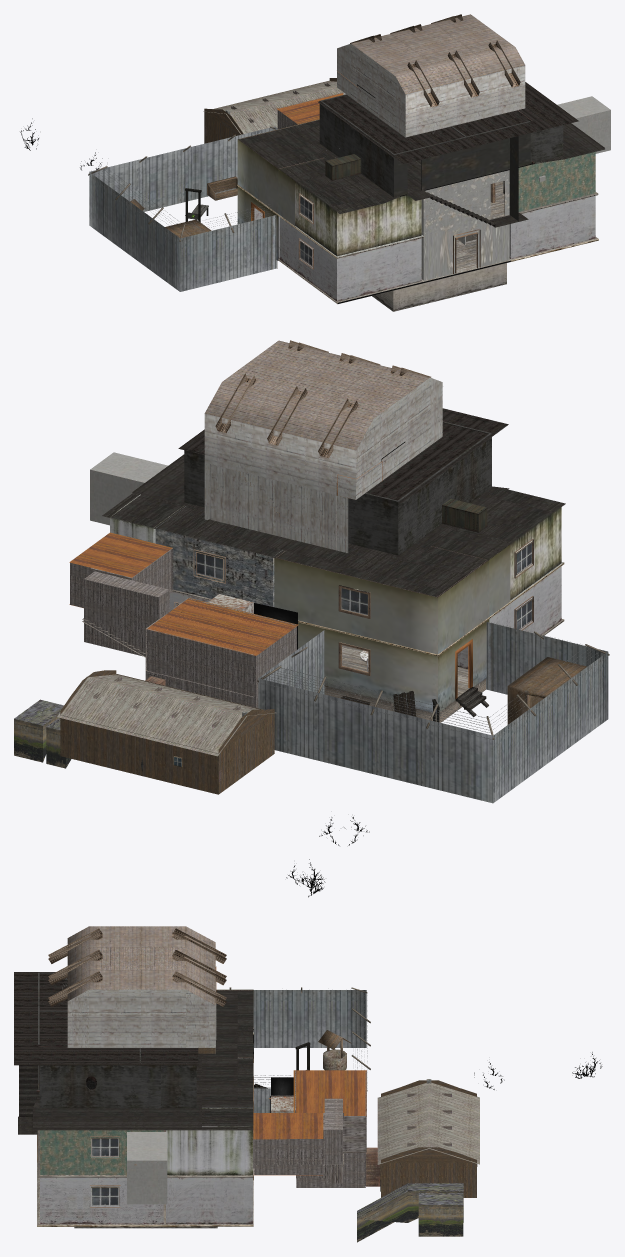
Rendered from granny1_map.glb.
3 views of the same model, one above another, from view 1: azimuth 30°, elevation 25°; view 2: azimuth 150°, elevation 25°; view 3: azimuth 270°, elevation 25° (orthographic). The views are drawn at different scales.
Visible parts, largest first — view 1: Klockdel_15_emissive.jpg, HouseUpdateVind1_1.001_diffuse_scale0.jpg, Klockdel_10_diffuse.jpg, Klockdel_18_diffuse.jpg, Klockdel_16_diffuse.jpg, HouseFloorBaked2Test3.001_diffuse.jpg, Klockdel_52_diffuse.jpg, Klockdel_12_diffuse.jpg, Klockdel_45_diffuse_scale5.jpg; view 2: Klockdel_10_diffuse.jpg, Klockdel_18_diffuse.jpg, HouseUpdateVind1_1.001_diffuse_scale0.jpg, Klockdel_12_diffuse.jpg, Klockdel_16_diffuse.jpg, Klockdel_15_emissive.jpg, Klockdel_52_diffuse.jpg, Klockdel_23_diffuse.jpg, BarbedWire_diffuse.png, HouseFloorBaked2Test3.001_diffuse.jpg, Klockdel_41_diffuse_scale5.jpg; view 3: HouseUpdateVind1_1.001_diffuse_scale0.jpg, Klockdel_18_diffuse.jpg, Klockdel_15_emissive.jpg, Klockdel_12_diffuse.jpg, Klockdel_16_diffuse.jpg, Klockdel_10_diffuse.jpg, Klockdel_23_diffuse.jpg, Klockdel_52_diffuse.jpg, HouseFloorBaked2Test3.001_diffuse.jpg.
Boxes of the visible parts, <box> form: Klockdel_15_emissive.jpg: <box>239,119,595,311</box>; HouseUpdateVind1_1.001_diffuse_scale0.jpg: <box>238,82,604,227</box>; Klockdel_10_diffuse.jpg: <box>88,119,319,291</box>; Klockdel_18_diffuse.jpg: <box>337,14,525,137</box>; Klockdel_16_diffuse.jpg: <box>203,78,342,143</box>; HouseFloorBaked2Test3.001_diffuse.jpg: <box>237,181,598,304</box>; Klockdel_52_diffuse.jpg: <box>539,96,610,181</box>; Klockdel_12_diffuse.jpg: <box>276,92,343,128</box>; Klockdel_45_diffuse_scale5.jpg: <box>185,188,208,222</box>; Klockdel_10_diffuse.jpg: <box>257,545,609,803</box>; Klockdel_18_diffuse.jpg: <box>204,340,442,552</box>; HouseUpdateVind1_1.001_diffuse_scale0.jpg: <box>102,408,565,597</box>; Klockdel_12_diffuse.jpg: <box>69,532,298,708</box>; Klockdel_16_diffuse.jpg: <box>57,670,276,794</box>; Klockdel_15_emissive.jpg: <box>110,492,561,675</box>; Klockdel_52_diffuse.jpg: <box>90,452,167,525</box>; Klockdel_23_diffuse.jpg: <box>14,699,71,768</box>; BarbedWire_diffuse.png: <box>258,622,609,739</box>; HouseFloorBaked2Test3.001_diffuse.jpg: <box>172,562,564,696</box>; Klockdel_41_diffuse_scale5.jpg: <box>340,687,488,717</box>; HouseUpdateVind1_1.001_diffuse_scale0.jpg: <box>14,972,253,1134</box>; Klockdel_18_diffuse.jpg: <box>48,926,226,1053</box>; Klockdel_15_emissive.jpg: <box>37,990,253,1228</box>; Klockdel_12_diffuse.jpg: <box>253,1070,366,1187</box>; Klockdel_16_diffuse.jpg: <box>366,1079,479,1197</box>; Klockdel_10_diffuse.jpg: <box>216,987,370,1112</box>; Klockdel_23_diffuse.jpg: <box>357,1183,463,1242</box>; Klockdel_52_diffuse.jpg: <box>127,1132,167,1204</box>; HouseFloorBaked2Test3.001_diffuse.jpg: <box>37,1063,253,1226</box>.
Bounding box in the file's own units: 28.99 × 16.23 × 33.38.
Materials: 66 (66 with a texture image).
